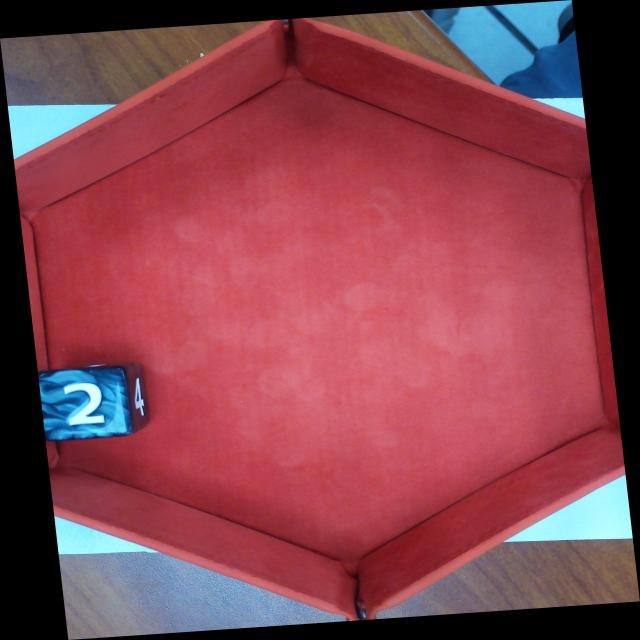dice: (39, 367, 131, 439)
